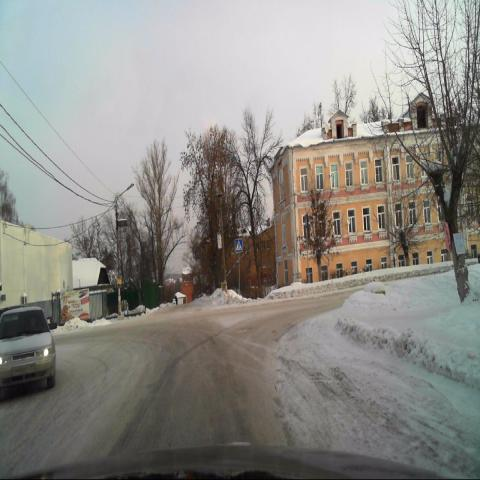5_19_1: (234, 239, 243, 252)
